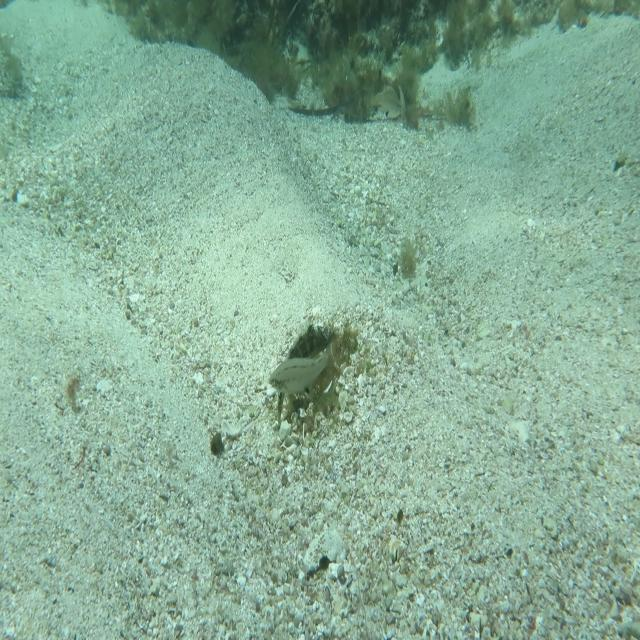DAN_CIRC: (275, 318, 341, 433)
female: (268, 332, 342, 399)
nest: (275, 315, 363, 433)
vegetation: (104, 0, 542, 45), (216, 46, 425, 94), (395, 229, 420, 274), (208, 426, 229, 458)
